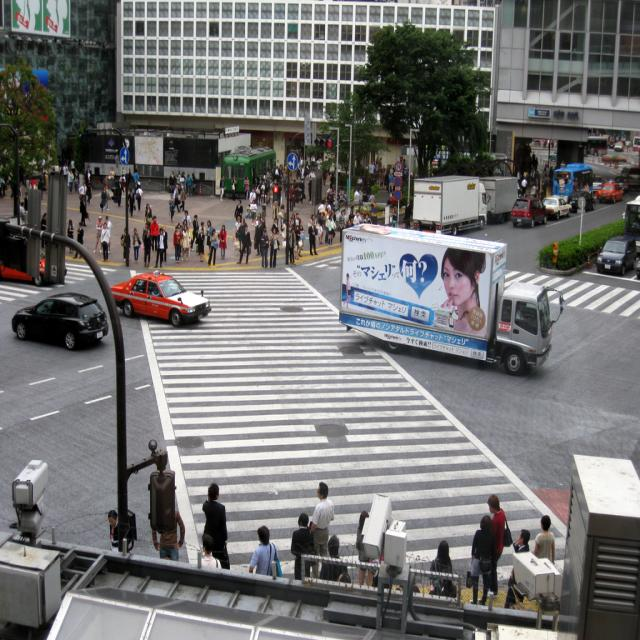car: (6, 287, 108, 351), (104, 279, 199, 332), (588, 224, 635, 273), (507, 193, 547, 228), (594, 171, 626, 203), (542, 191, 570, 217)
